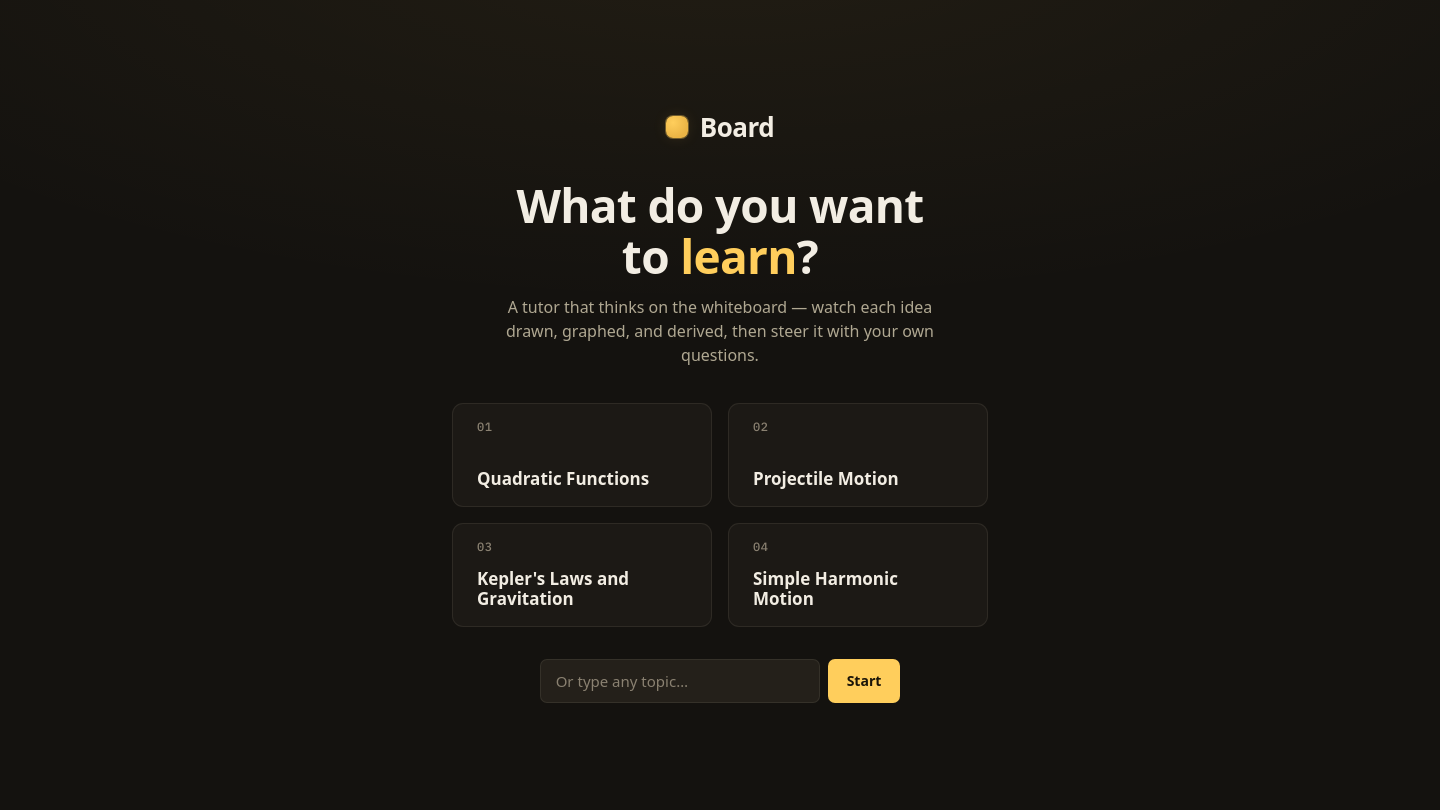
Scenario: chat-turn errors also appear in the transcript (P-B fold-in) › does not append a spurious chat message when a non-chat turn errors
What coordinates should you click on to do the following:
click the button "Quadratic Functions"
I would click on:
 (563, 479)
Its box is x1=452 y1=403 x2=712 y2=507.
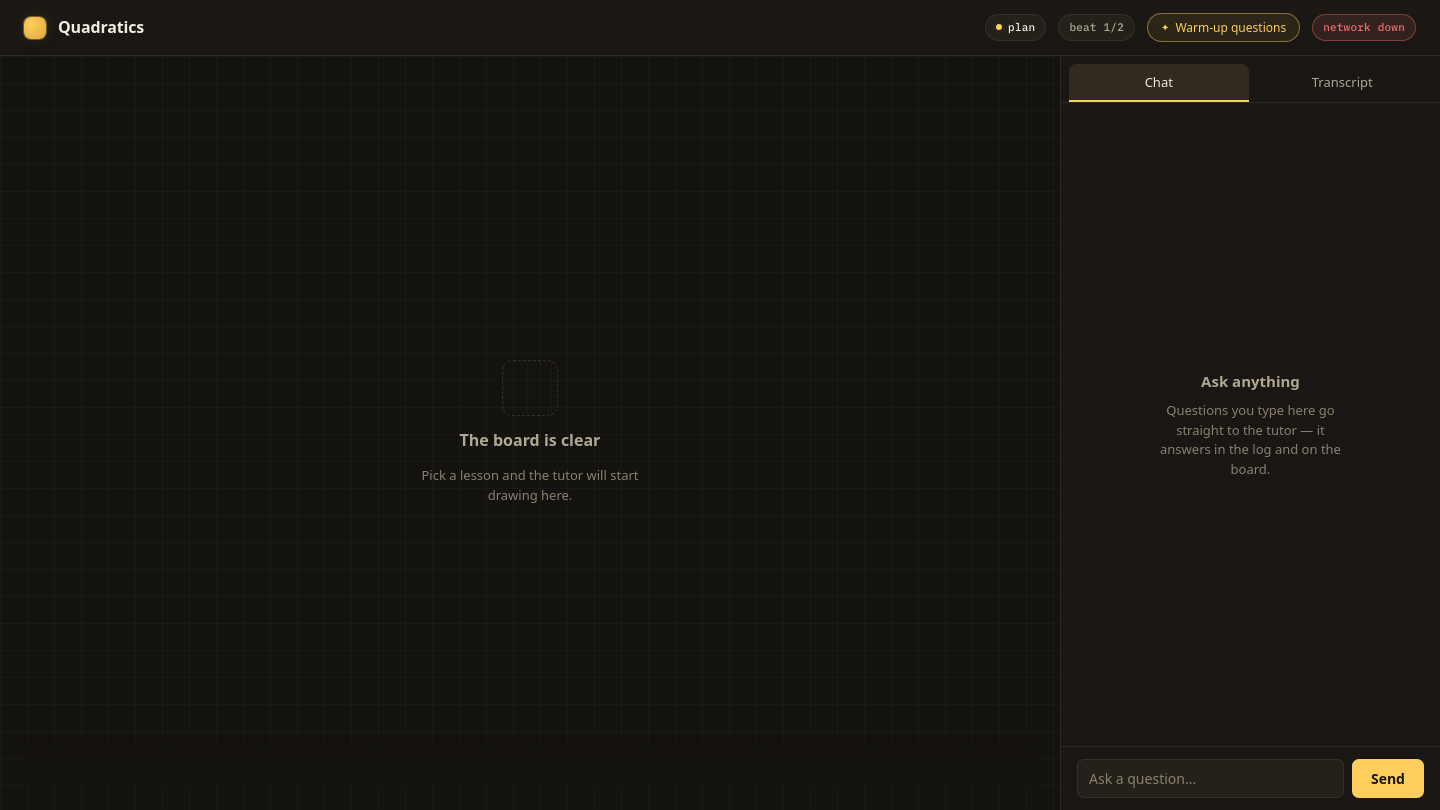
Check: the text "network down" is shown, box x1=1312 y1=14 x2=1416 y2=41
